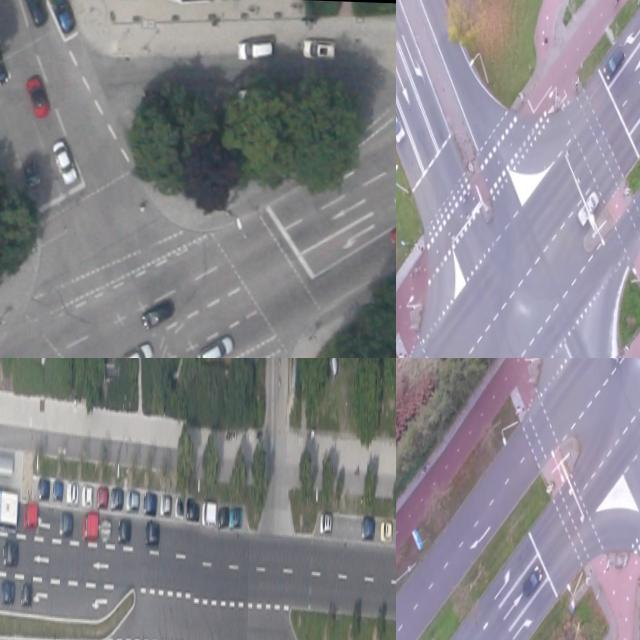UAI: (48, 137, 80, 186), (22, 73, 51, 119), (139, 297, 173, 331), (194, 332, 235, 358), (49, 0, 77, 34), (577, 189, 600, 229), (237, 38, 274, 61), (603, 45, 625, 80), (302, 38, 335, 59), (116, 340, 154, 358), (21, 158, 43, 189), (522, 564, 542, 598), (396, 98, 407, 144), (82, 511, 98, 542), (22, 501, 37, 530), (3, 540, 18, 567), (144, 521, 159, 547), (59, 510, 73, 537), (202, 501, 216, 527), (325, 358, 339, 383), (387, 209, 396, 247), (117, 518, 130, 544), (0, 579, 14, 603), (142, 491, 156, 515), (361, 516, 374, 540), (186, 498, 199, 521), (125, 488, 138, 511), (66, 482, 79, 505), (111, 486, 123, 510), (20, 582, 32, 605), (380, 520, 392, 543), (100, 516, 110, 543), (229, 506, 242, 526), (218, 505, 229, 528), (96, 486, 107, 509), (81, 484, 92, 507), (319, 513, 331, 534), (37, 478, 49, 499), (160, 493, 171, 514), (52, 479, 63, 500), (174, 496, 183, 517)
car: (0, 485, 19, 531)
